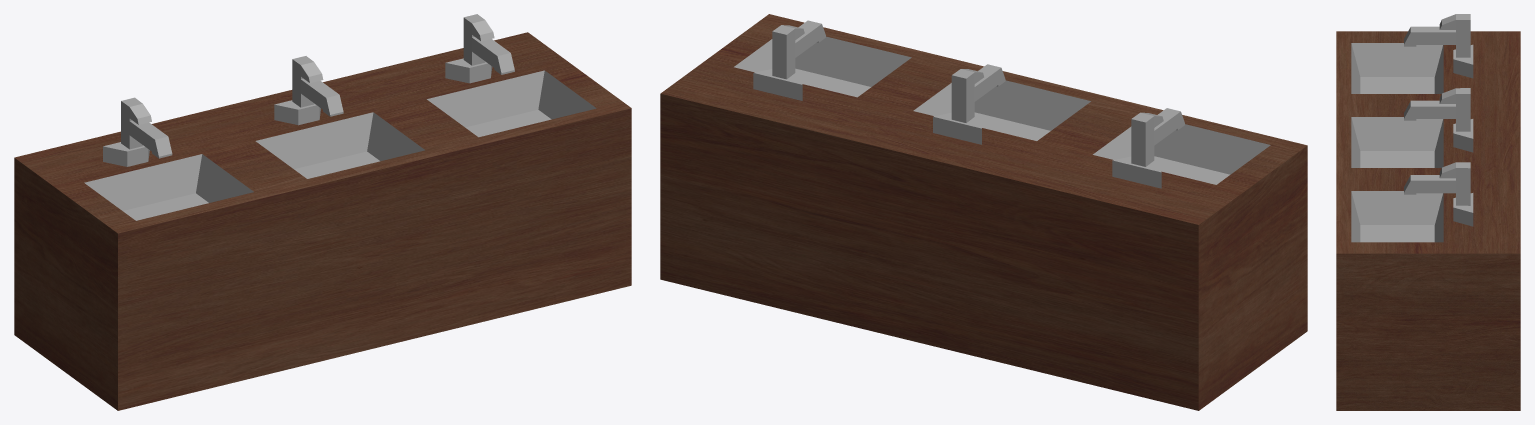
File: sinkbeeg.fbx
3 views of the same model, side by side, from view 1: azimuth 30°, elevation 25°; view 2: azimuth 150°, elevation 25°; view 3: azimuth 270°, elevation 25° (orthographic). The views are drawn at different scales.
Visible parts, largest first — view 1: Cube; view 2: Cube; view 3: Cube.
Part boxes in pixels (<box>): Cube: <box>14,14,631,410</box>; Cube: <box>660,14,1307,410</box>; Cube: <box>1336,14,1520,410</box>.
Bounding box in the file's own units: 200 × 70 × 87.58.
